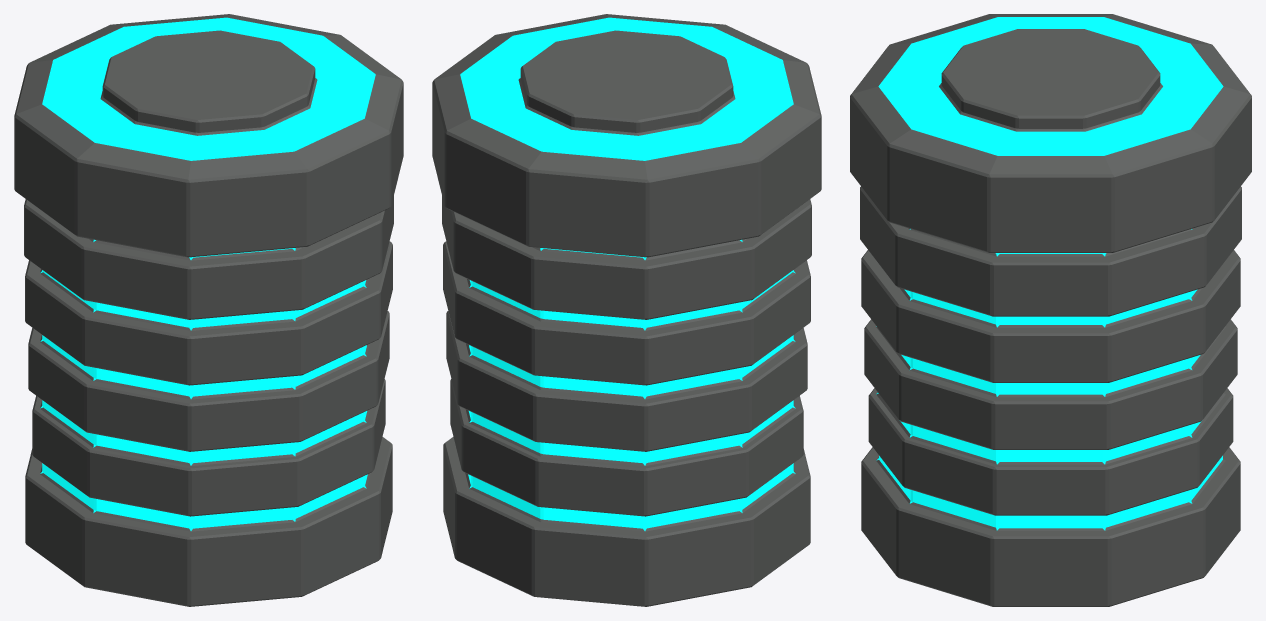
File: Props_Batterie.fbx
3 views of the same model, side by side, from view 1: azimuth 30°, elevation 25°; view 2: azimuth 150°, elevation 25°; view 3: azimuth 270°, elevation 25° (orthographic).
Parts seen in each view (by area): view 1: Props_Batterie; view 2: Props_Batterie; view 3: Props_Batterie.
Part boxes in pixels (x1,y1,x2,y2): Props_Batterie: (14,14,403,606); Props_Batterie: (432,14,821,606); Props_Batterie: (850,14,1251,606).
Bounding box in the file's own units: 13.33 × 17.74 × 13.97.
